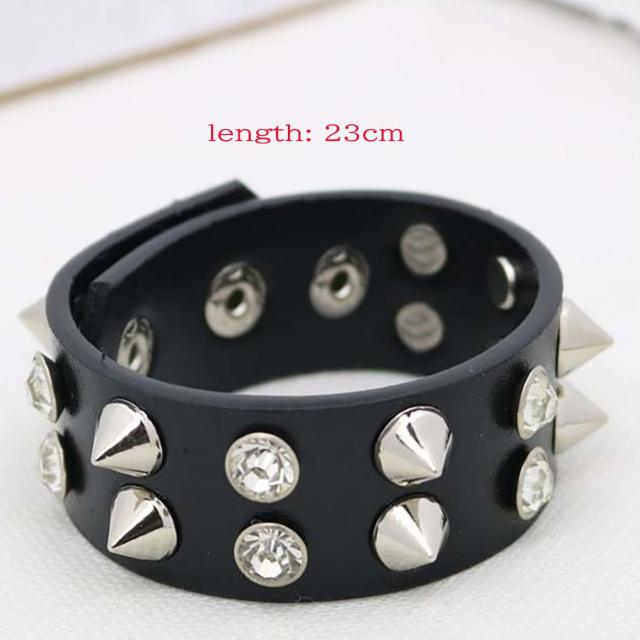bracelet: (0, 155, 639, 640)
